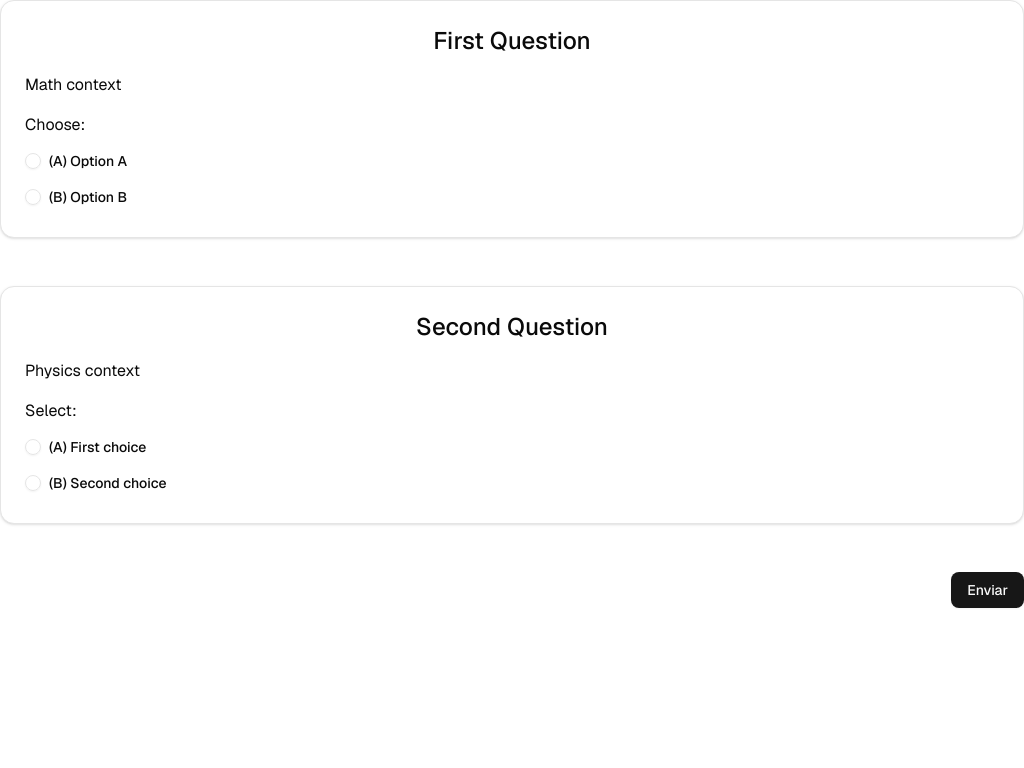
Test: SubmitChallengeForm › shows result dialog when submission is successful
Click the radio button named "Option" in the row of "Option A".
click(33, 161)  # box left=25, top=153, right=41, bottom=169
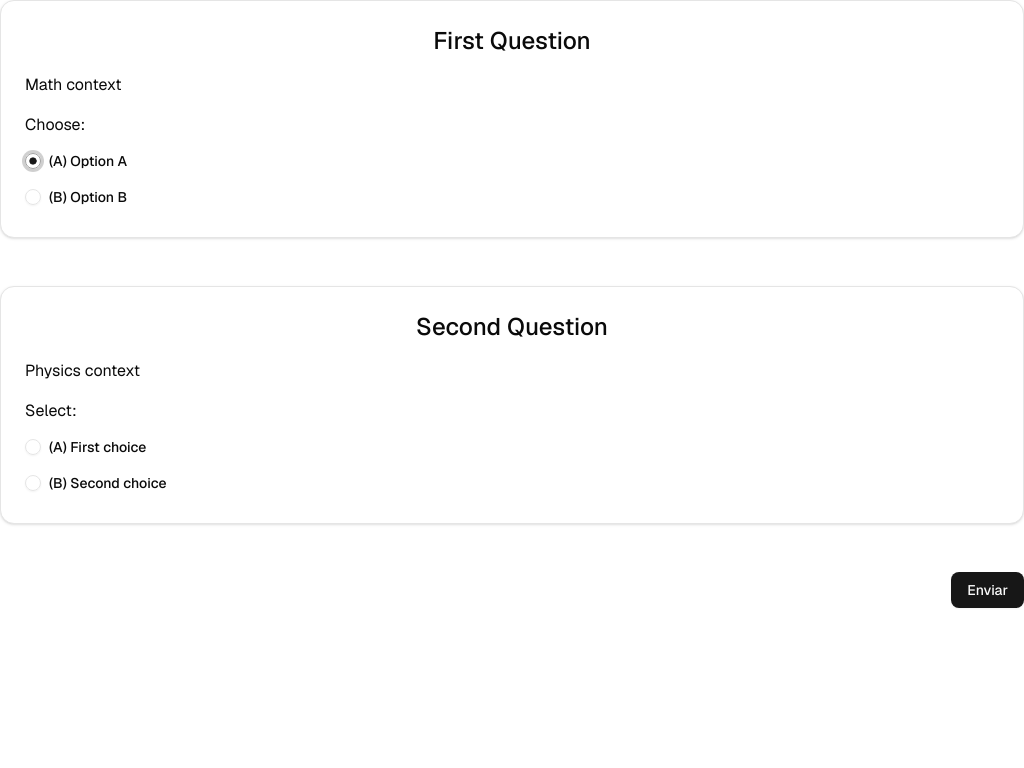
Click the radio button named "choice" in the row of "Second choice".
click(33, 483)  # box left=25, top=475, right=41, bottom=491
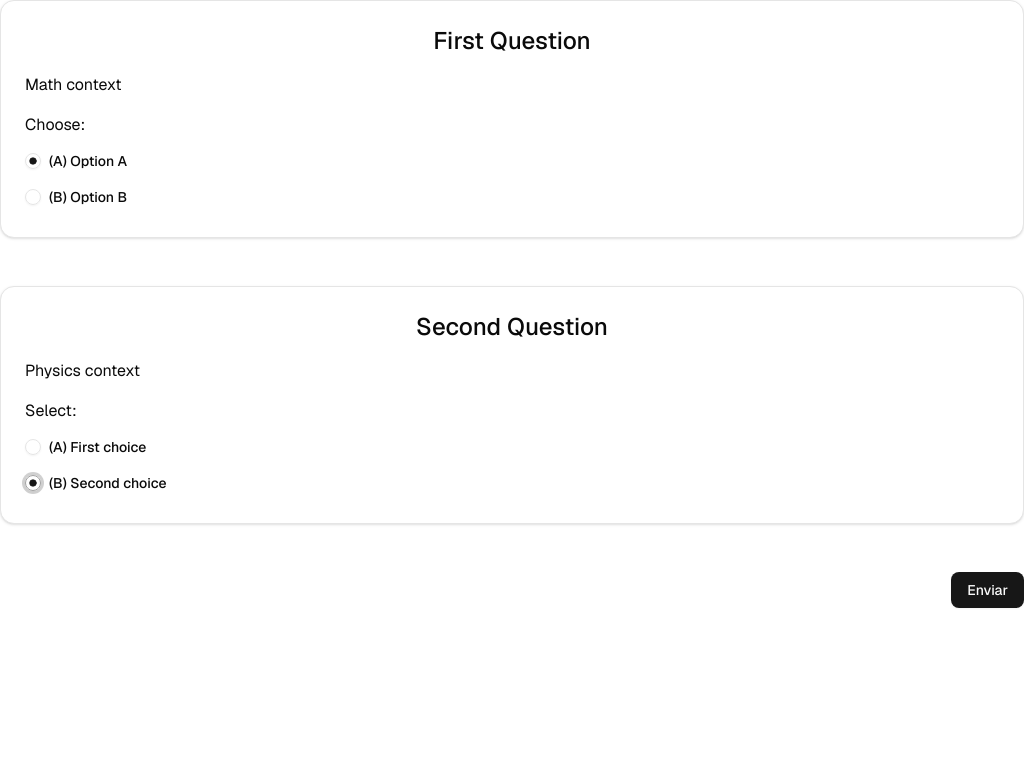
Click the button "Enviar".
click(988, 590)  # box left=951, top=572, right=1023, bottom=608
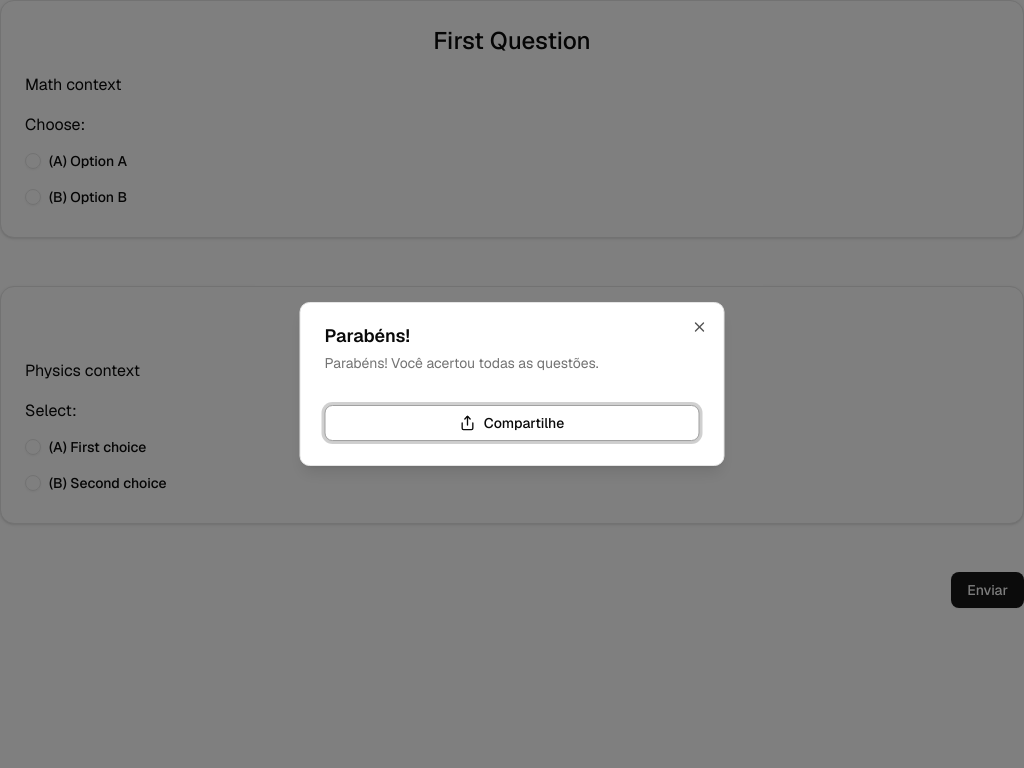
Expected: the heading "Parabéns!" is shown, left=324, top=324, right=410, bottom=347
Expected: the text "Parabéns! Você acertou todas as questões." is shown, left=324, top=354, right=598, bottom=372
